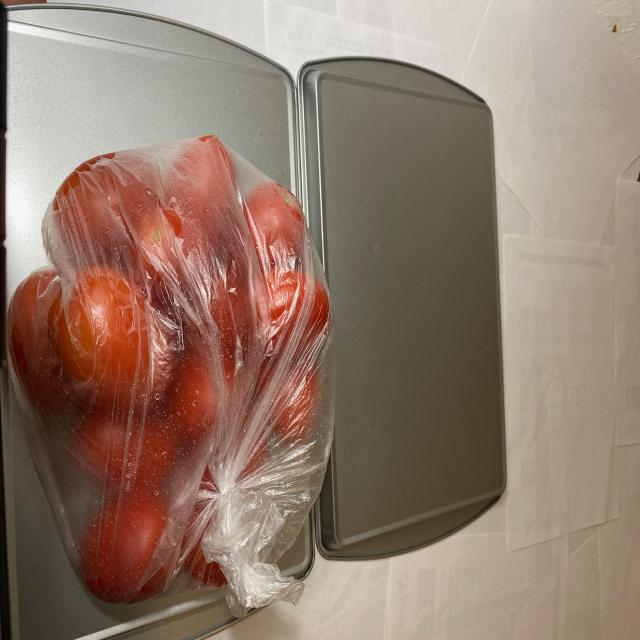tomato: (19, 136, 328, 591)
